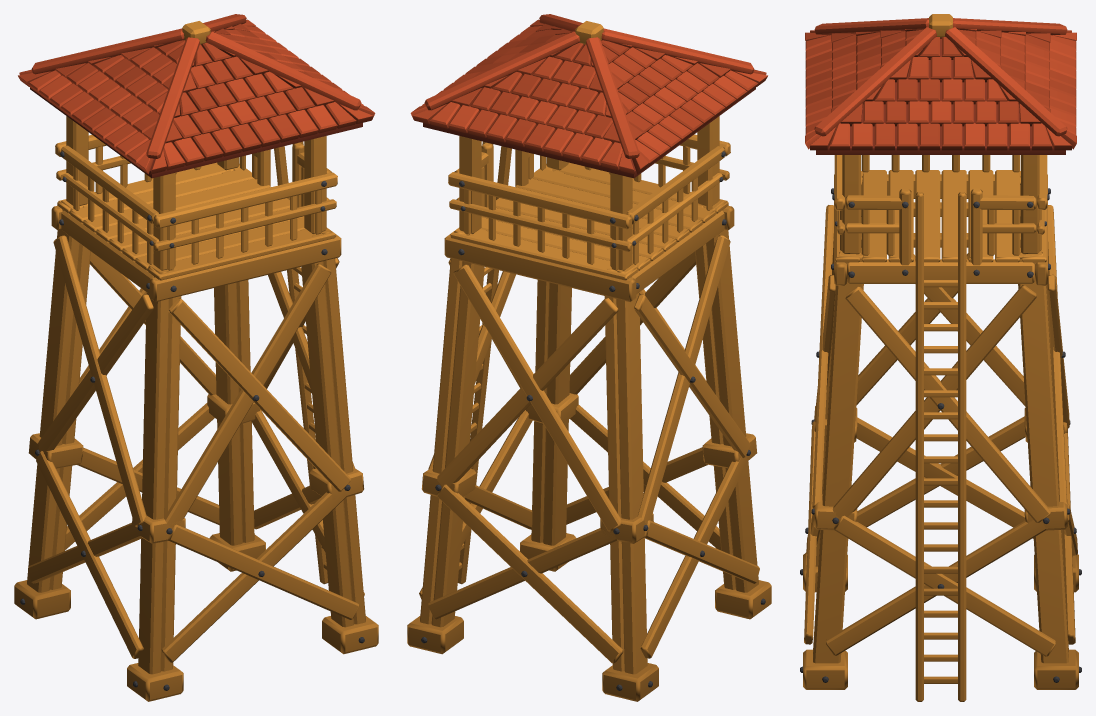
Rendered from lookout_tower.glb.
The picture shows the model from 3 angles, left to right: view 1: azimuth 30°, elevation 25°; view 2: azimuth 150°, elevation 25°; view 3: azimuth 270°, elevation 25°; orthographic projection. The views are drawn at different scales.
Visible parts, largest first — view 1: legs, cross_braces, roof, platform, railings, roof_posts, ladder; view 2: legs, cross_braces, roof, platform, railings, roof_posts, ladder; view 3: roof, cross_braces, legs, ladder, platform, railings, roof_posts.
Part boxes in pixels (x1,y1,x2,y2): legs: (14, 163, 378, 701); cross_braces: (28, 235, 364, 662); roof: (18, 14, 375, 178); platform: (51, 162, 341, 301); railings: (55, 135, 337, 270); roof_posts: (66, 116, 326, 270); ladder: (274, 141, 328, 584); legs: (407, 163, 771, 701); cross_braces: (419, 235, 759, 663); roof: (410, 14, 767, 178); platform: (444, 162, 734, 301); railings: (448, 134, 730, 270); roof_posts: (459, 116, 719, 270); ladder: (457, 141, 511, 584); roof: (805, 14, 1076, 154); cross_braces: (804, 205, 1077, 656); legs: (800, 171, 1081, 689); ladder: (915, 192, 966, 701); platform: (831, 170, 1050, 285); railings: (832, 155, 1049, 275); roof_posts: (842, 155, 1039, 254).
Size of the model in its own units: 4.7 by 10.27 by 4.26.
